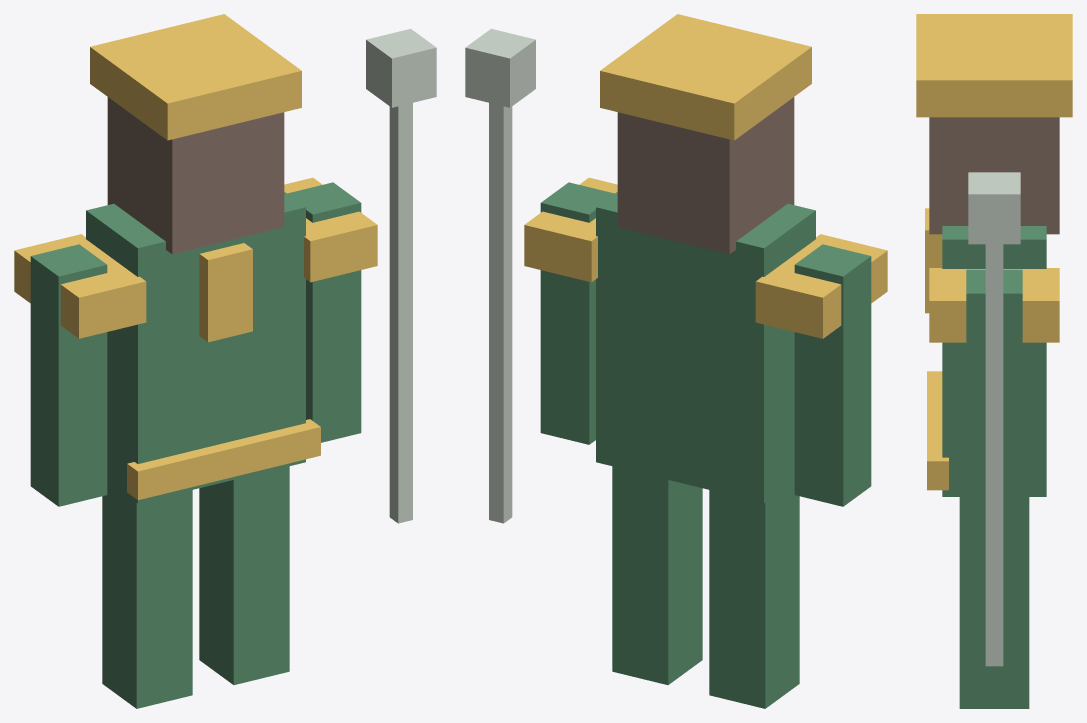
The model's file is 02_kael_whispercoil_ranger_of_shifting.glb.
3 renders of one model, left to right at view 1: azimuth 30°, elevation 25°; view 2: azimuth 150°, elevation 25°; view 3: azimuth 270°, elevation 25°, orthographic.
Visible parts, largest first — view 1: Kael Whispercoil, Ranger of Shifting; view 2: Kael Whispercoil, Ranger of Shifting; view 3: Kael Whispercoil, Ranger of Shifting.
Boxes of the visible parts, x1,y1,x2,y2 form: Kael Whispercoil, Ranger of Shifting: [14, 14, 436, 708]; Kael Whispercoil, Ranger of Shifting: [465, 14, 887, 708]; Kael Whispercoil, Ranger of Shifting: [916, 14, 1072, 708].
Bounding box in the file's own units: 1.09 × 1.69 × 0.3848.
